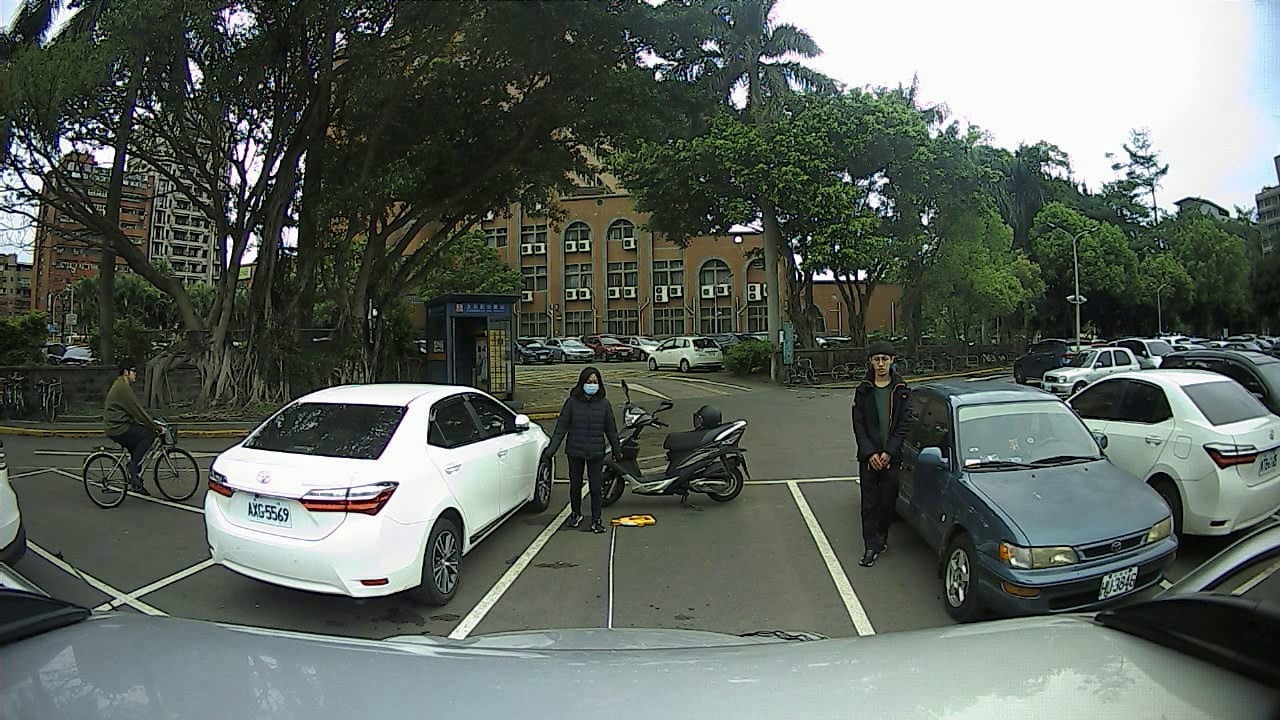bicyclist: (56, 359, 206, 513)
car: (184, 370, 568, 621), (906, 382, 1184, 615), (1069, 357, 1277, 539)
motorcycle: (600, 388, 760, 516)
person: (843, 327, 916, 577), (542, 359, 619, 533)
